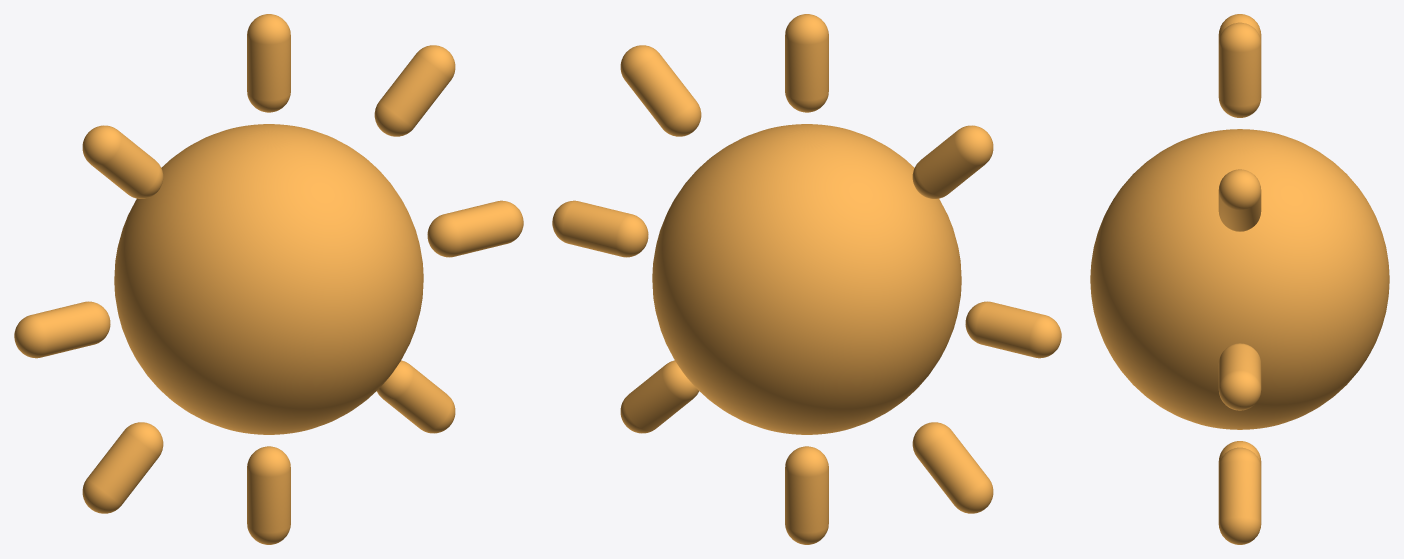
The model's file is sunny.glb.
3 renders of one model, left to right at view 1: azimuth 30°, elevation 25°; view 2: azimuth 150°, elevation 25°; view 3: azimuth 270°, elevation 25°, orthographic. The views are drawn at different scales.
Visible parts, largest first — view 1: 0001; view 2: 0001; view 3: 0001.
Boxes of the visible parts, box(x1,y1,x2,y2) form: 0001: box(14, 14, 523, 544); 0001: box(552, 14, 1061, 544); 0001: box(1090, 14, 1389, 544).
Size of the model in its own units: 2.65 by 2.65 by 1.41.
